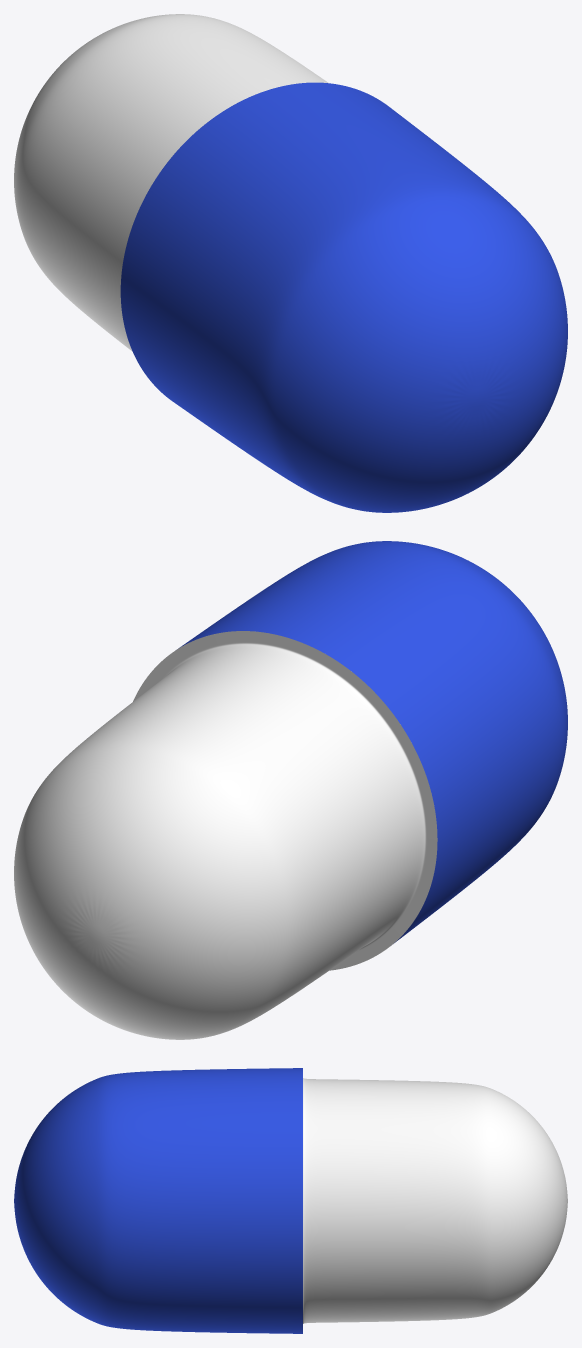
3 views of the same model, one above another, from view 1: azimuth 30°, elevation 25°; view 2: azimuth 150°, elevation 25°; view 3: azimuth 270°, elevation 25° (orthographic). The views are drawn at different scales.
Parts seen in each view (by area): view 1: Sphere; view 2: Sphere; view 3: Sphere.
Part boxes in pixels (x1=…): Sphere: x1=14, y1=14, x2=567, y2=512; Sphere: x1=14, y1=541, x2=567, y2=1039; Sphere: x1=14, y1=1068, x2=567, y2=1333.
Size of the model in its own units: 1.99 by 1.99 by 4.14.
